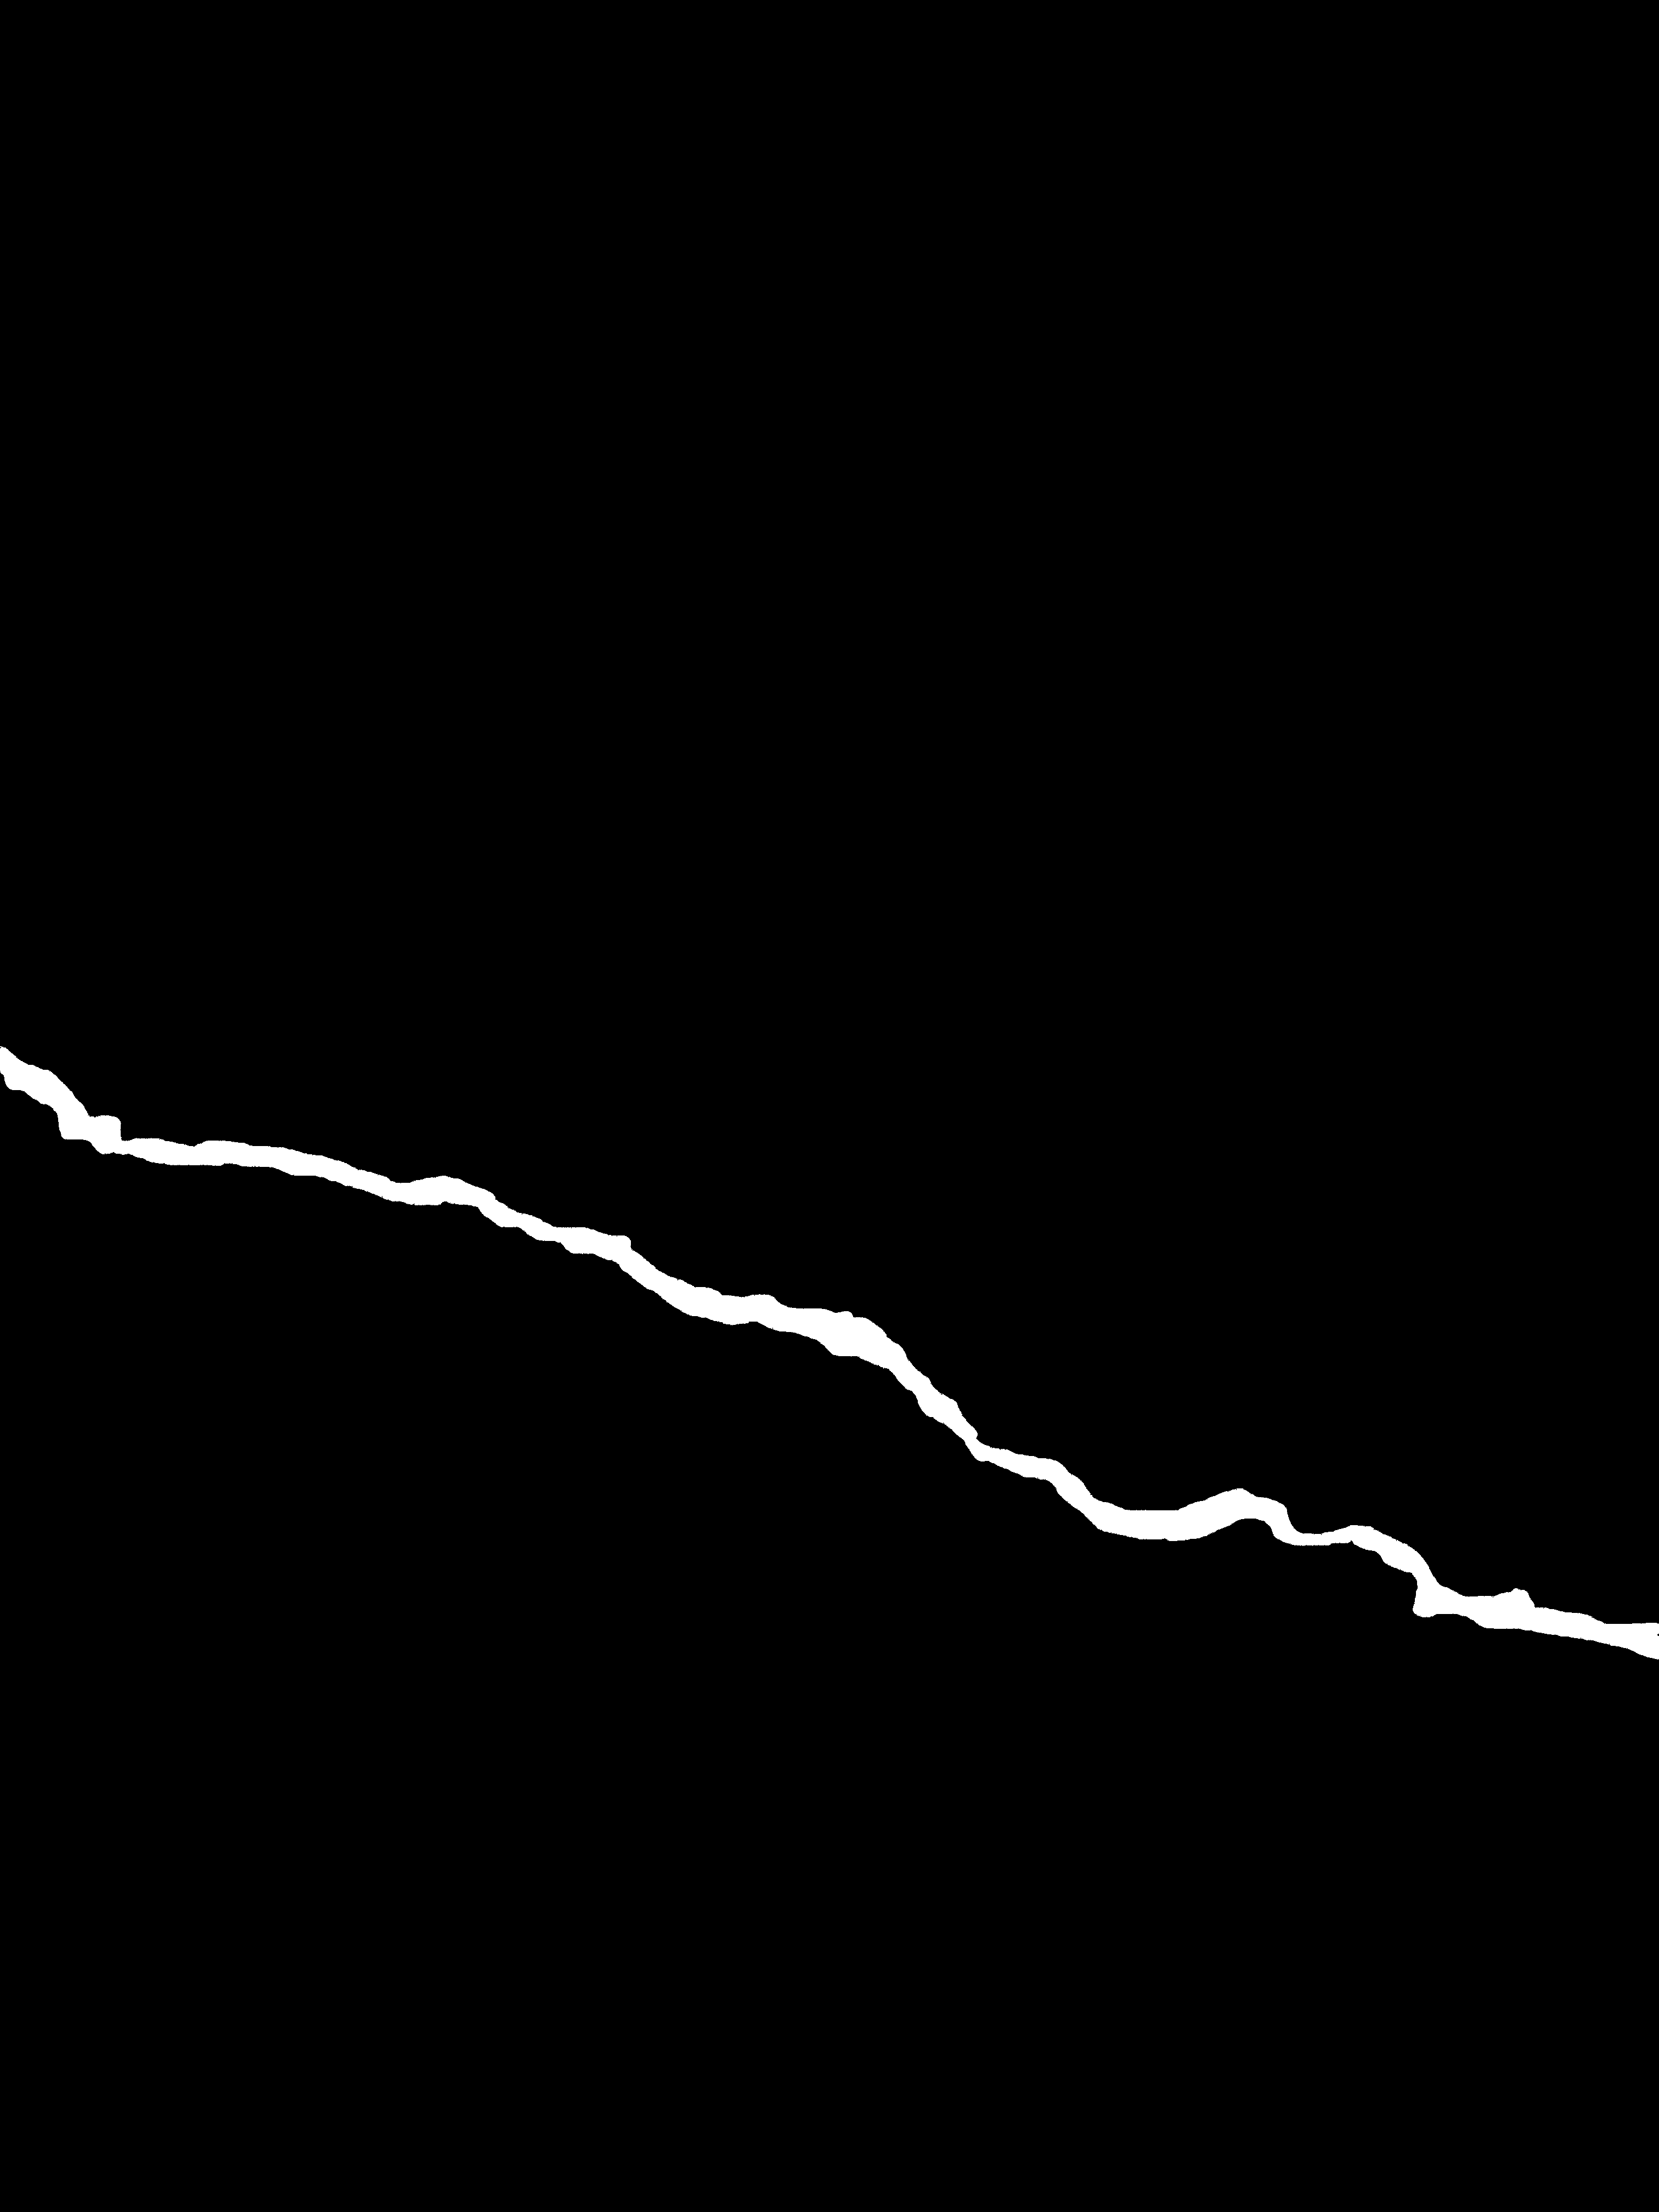Crack: (0, 1031, 1659, 1681)
